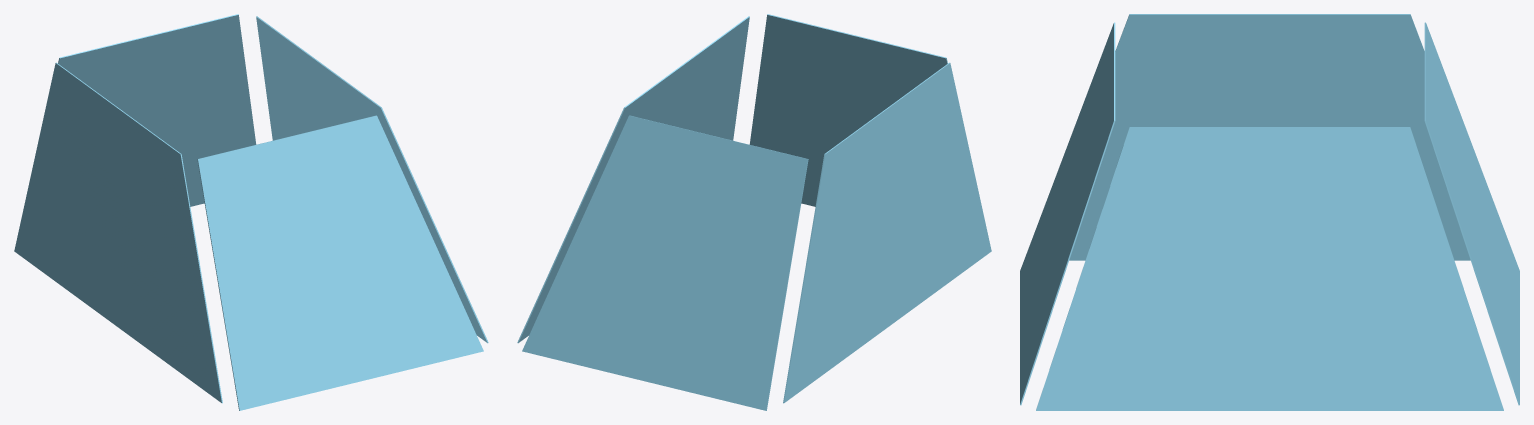
The model's file is Windows.glb.
The picture shows the model from 3 angles, left to right: view 1: azimuth 30°, elevation 25°; view 2: azimuth 150°, elevation 25°; view 3: azimuth 270°, elevation 25°; orthographic projection. The views are drawn at different scales.
Parts seen in each view (by area): view 1: Cube.129; view 2: Cube.129; view 3: Cube.129.
Boxes of the visible parts, bbox=[...] form: Cube.129: bbox=[14, 14, 488, 410]; Cube.129: bbox=[517, 14, 991, 410]; Cube.129: bbox=[1020, 14, 1519, 410].
Size of the model in its own units: 0.0411 by 0.033 by 0.0594.
1 material, 1 textured.
